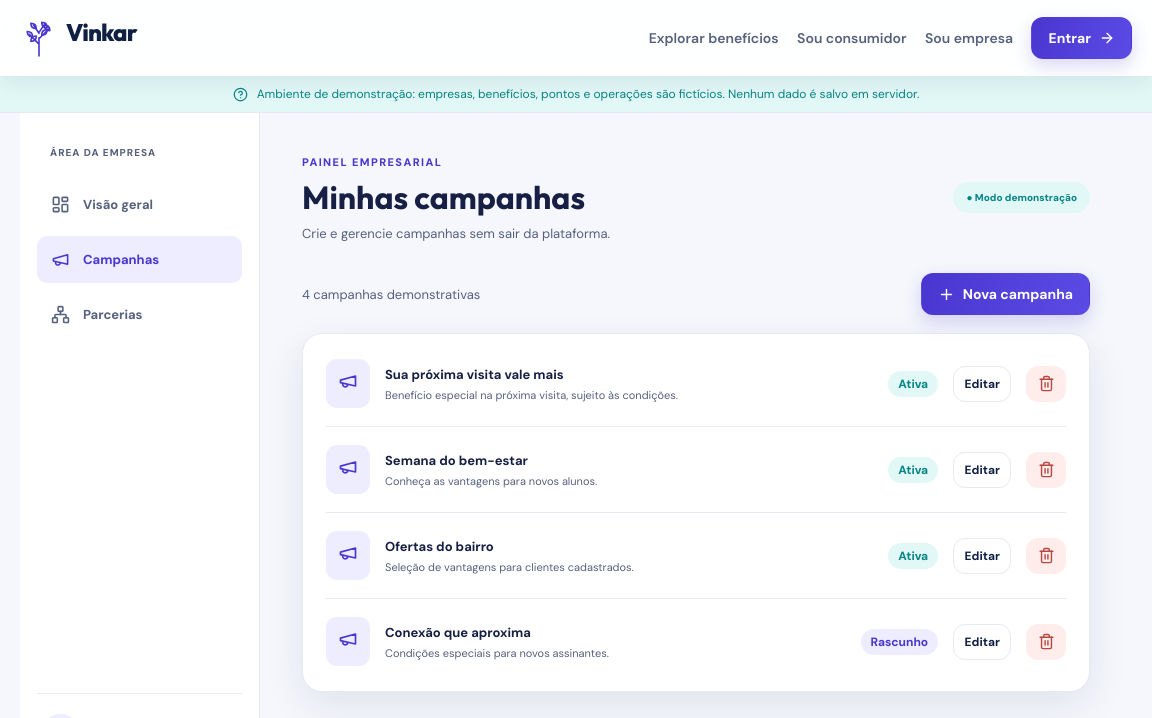
Scenario: isolamento e navegação da demonstração › mantém foco dentro do modal e o devolve ao controle que o abriu
Step 1. Click the button "Nova campanha" → (1005, 294), box [921,273,1090,315]
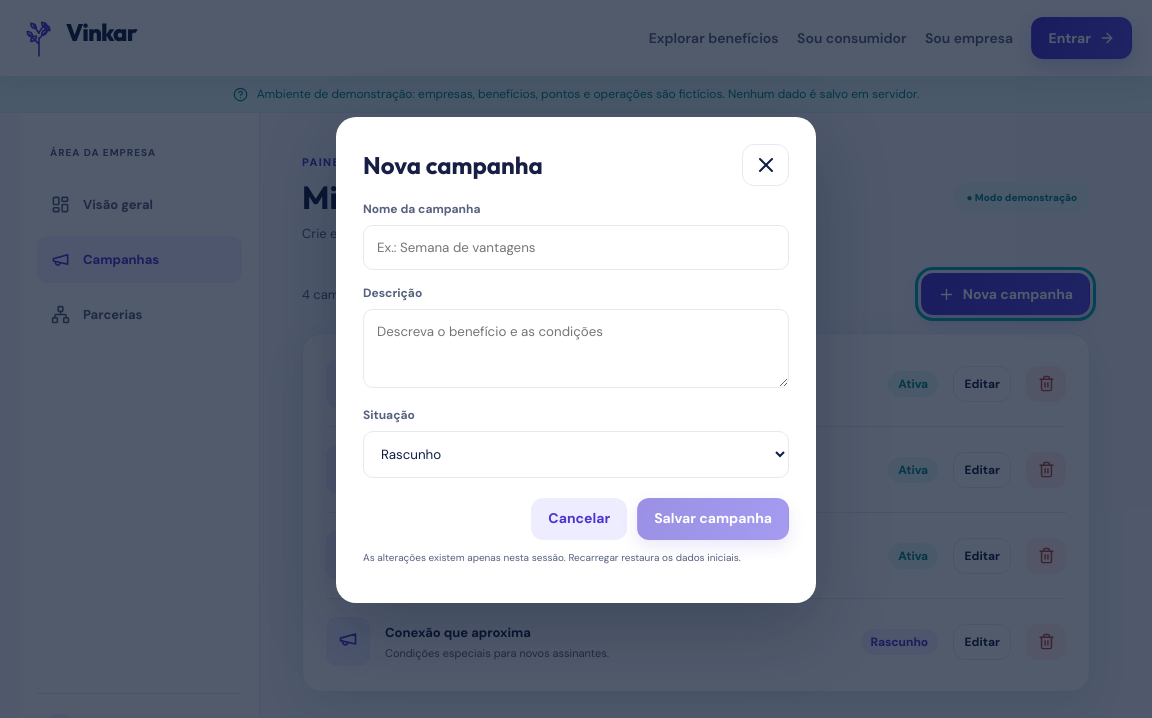
Step 2. Press Tab
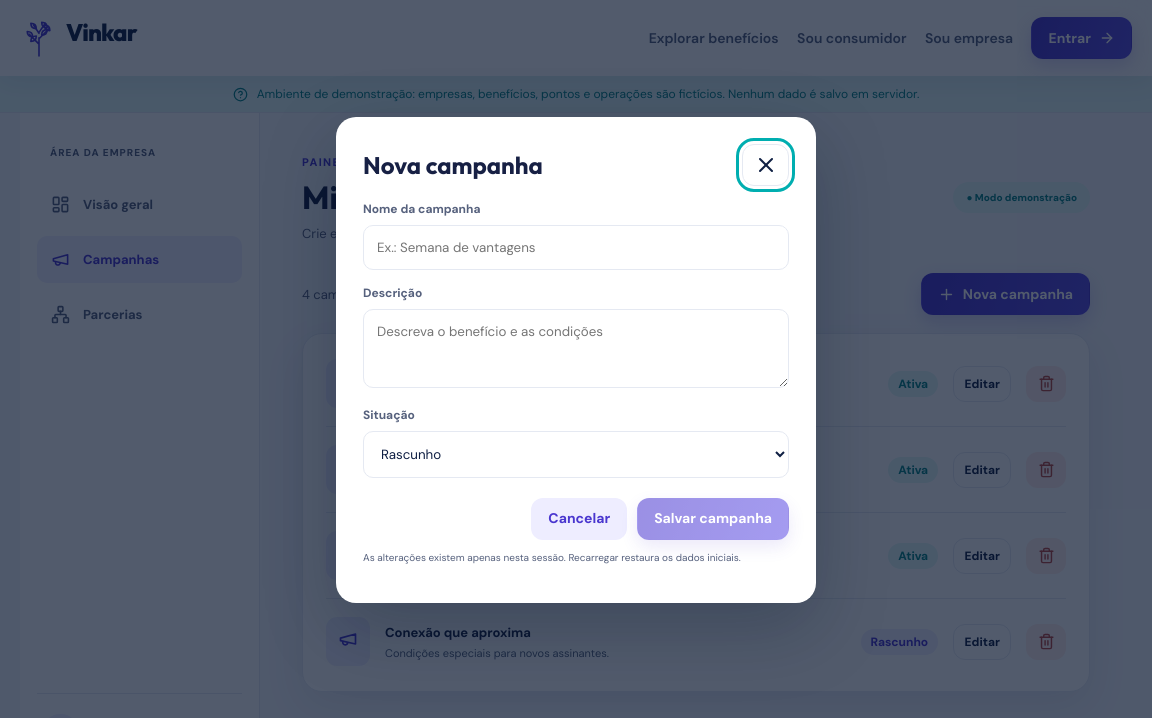
Step 3. Type keys "{Shift>}{Tab}{/Shift}"
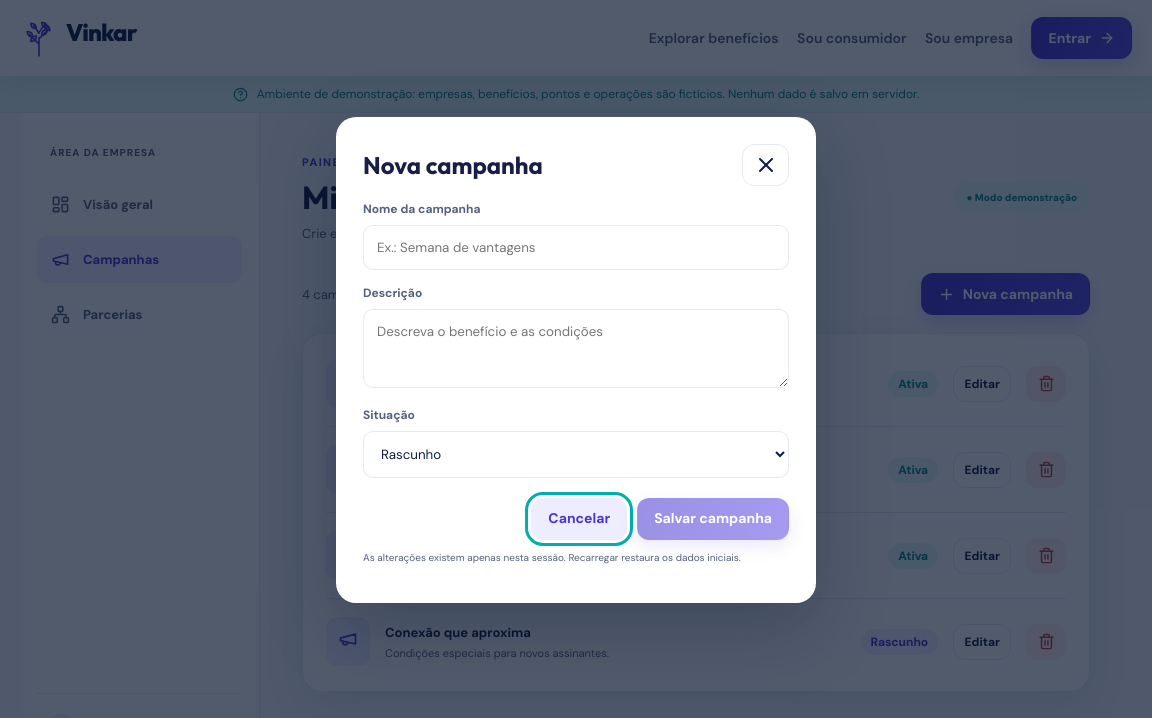
Step 4. Press Escape
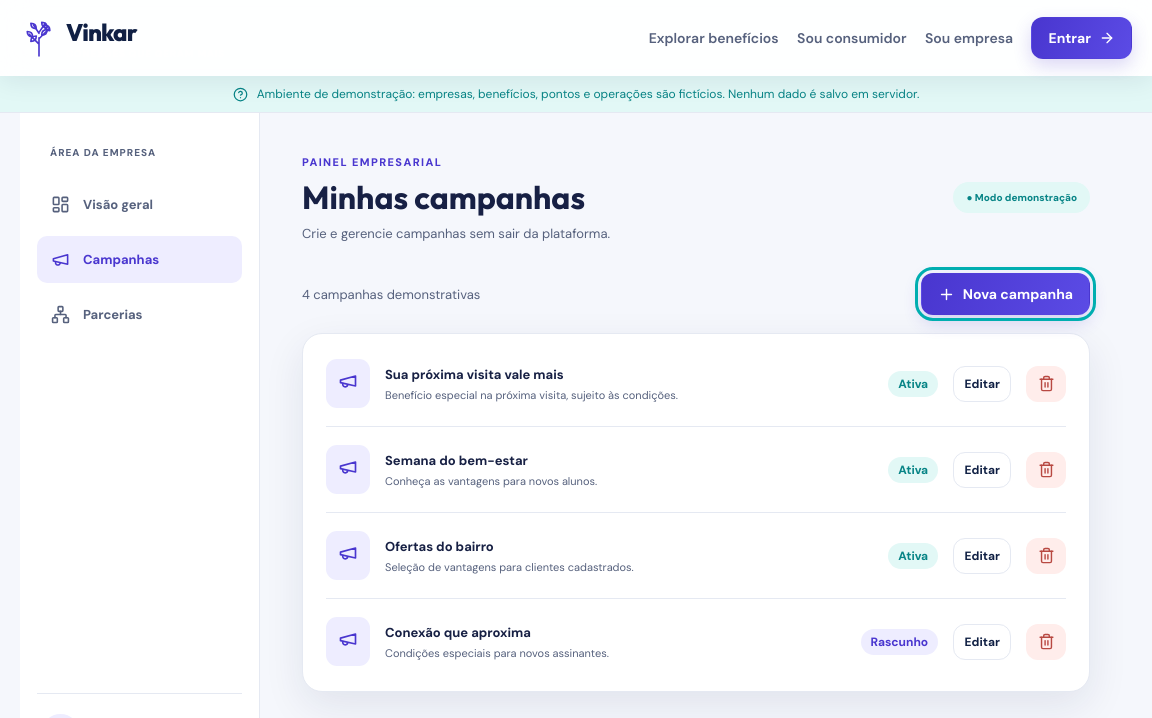
Now the dialog is gone
